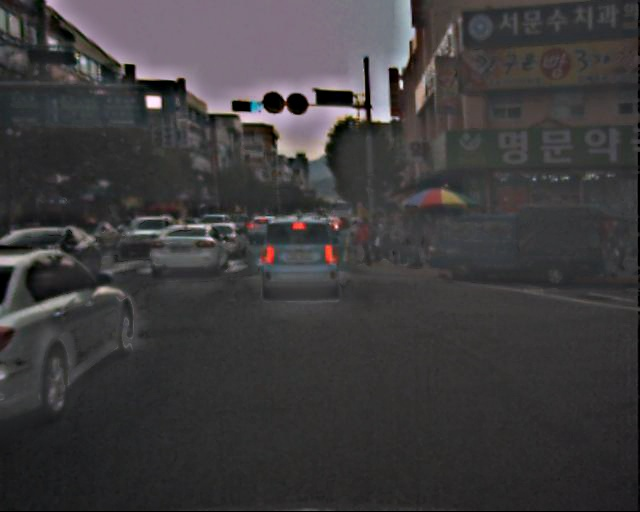person: (357, 215, 437, 269), (605, 212, 630, 274)
